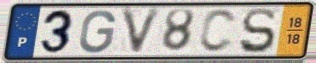3: (39, 8, 75, 57)
8: (159, 8, 197, 56)
C: (197, 8, 239, 55)
G: (77, 9, 118, 55)
S: (238, 7, 278, 56)
V: (118, 6, 165, 58)
